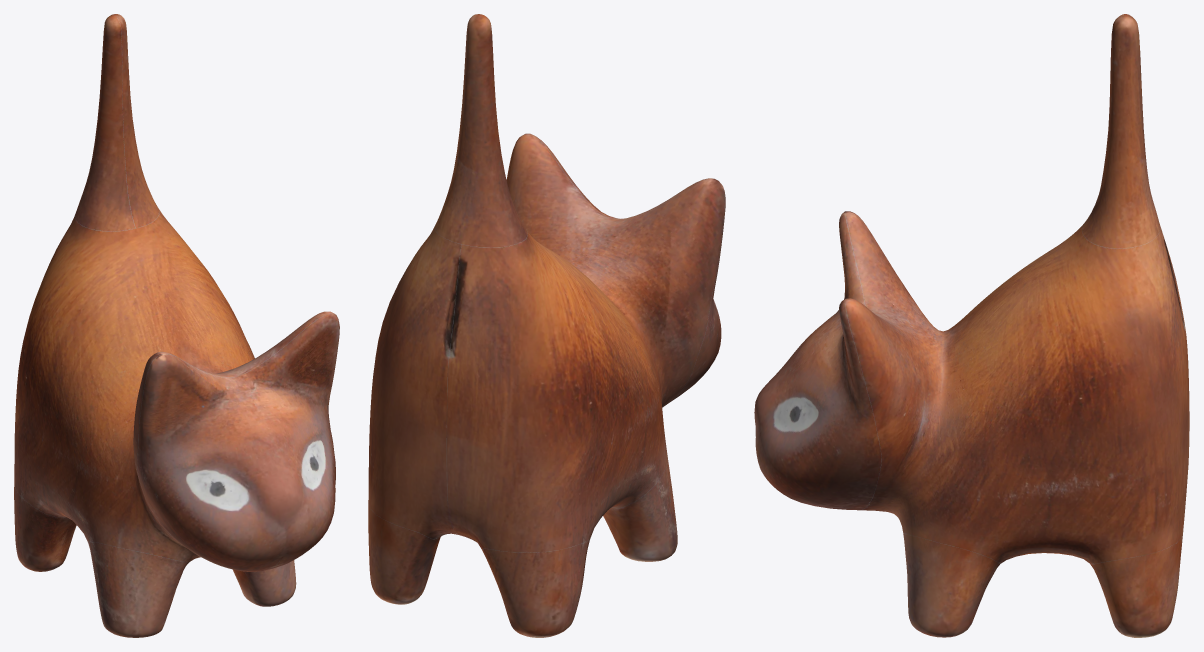
The model's file is gato-de-barro.glb.
The picture shows the model from 3 angles, left to right: view 1: azimuth 30°, elevation 25°; view 2: azimuth 150°, elevation 25°; view 3: azimuth 270°, elevation 25°; orthographic projection. The views are drawn at different scales.
Visible parts, largest first — view 1: Object_4; view 2: Object_4; view 3: Object_4.
Boxes of the visible parts, x1,y1,x2,y2 form: Object_4: [14, 14, 339, 637]; Object_4: [368, 14, 725, 637]; Object_4: [754, 14, 1189, 637].
Bounding box in the file's own units: 0.9354 × 2.49 × 1.69.
1 material, 1 textured.
